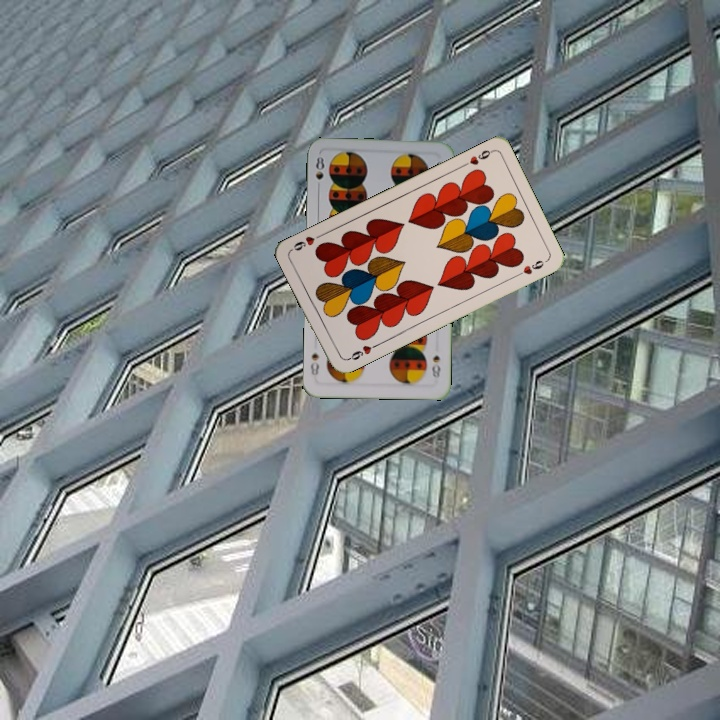H9: (458, 146, 495, 170), (342, 340, 380, 363)
S8: (311, 152, 327, 193), (428, 351, 443, 381)
